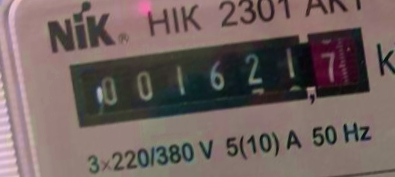0: (132, 67, 157, 106), (97, 72, 120, 108)
1: (281, 43, 299, 81), (171, 62, 189, 99)
2: (242, 50, 266, 88)
6: (205, 58, 227, 94)
7: (317, 48, 340, 86)
screen: (63, 24, 377, 134)
